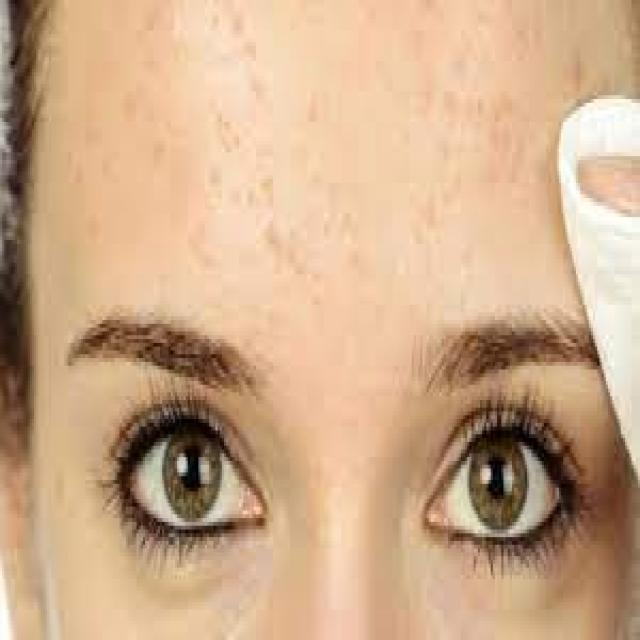fungal: (111, 0, 537, 316)
